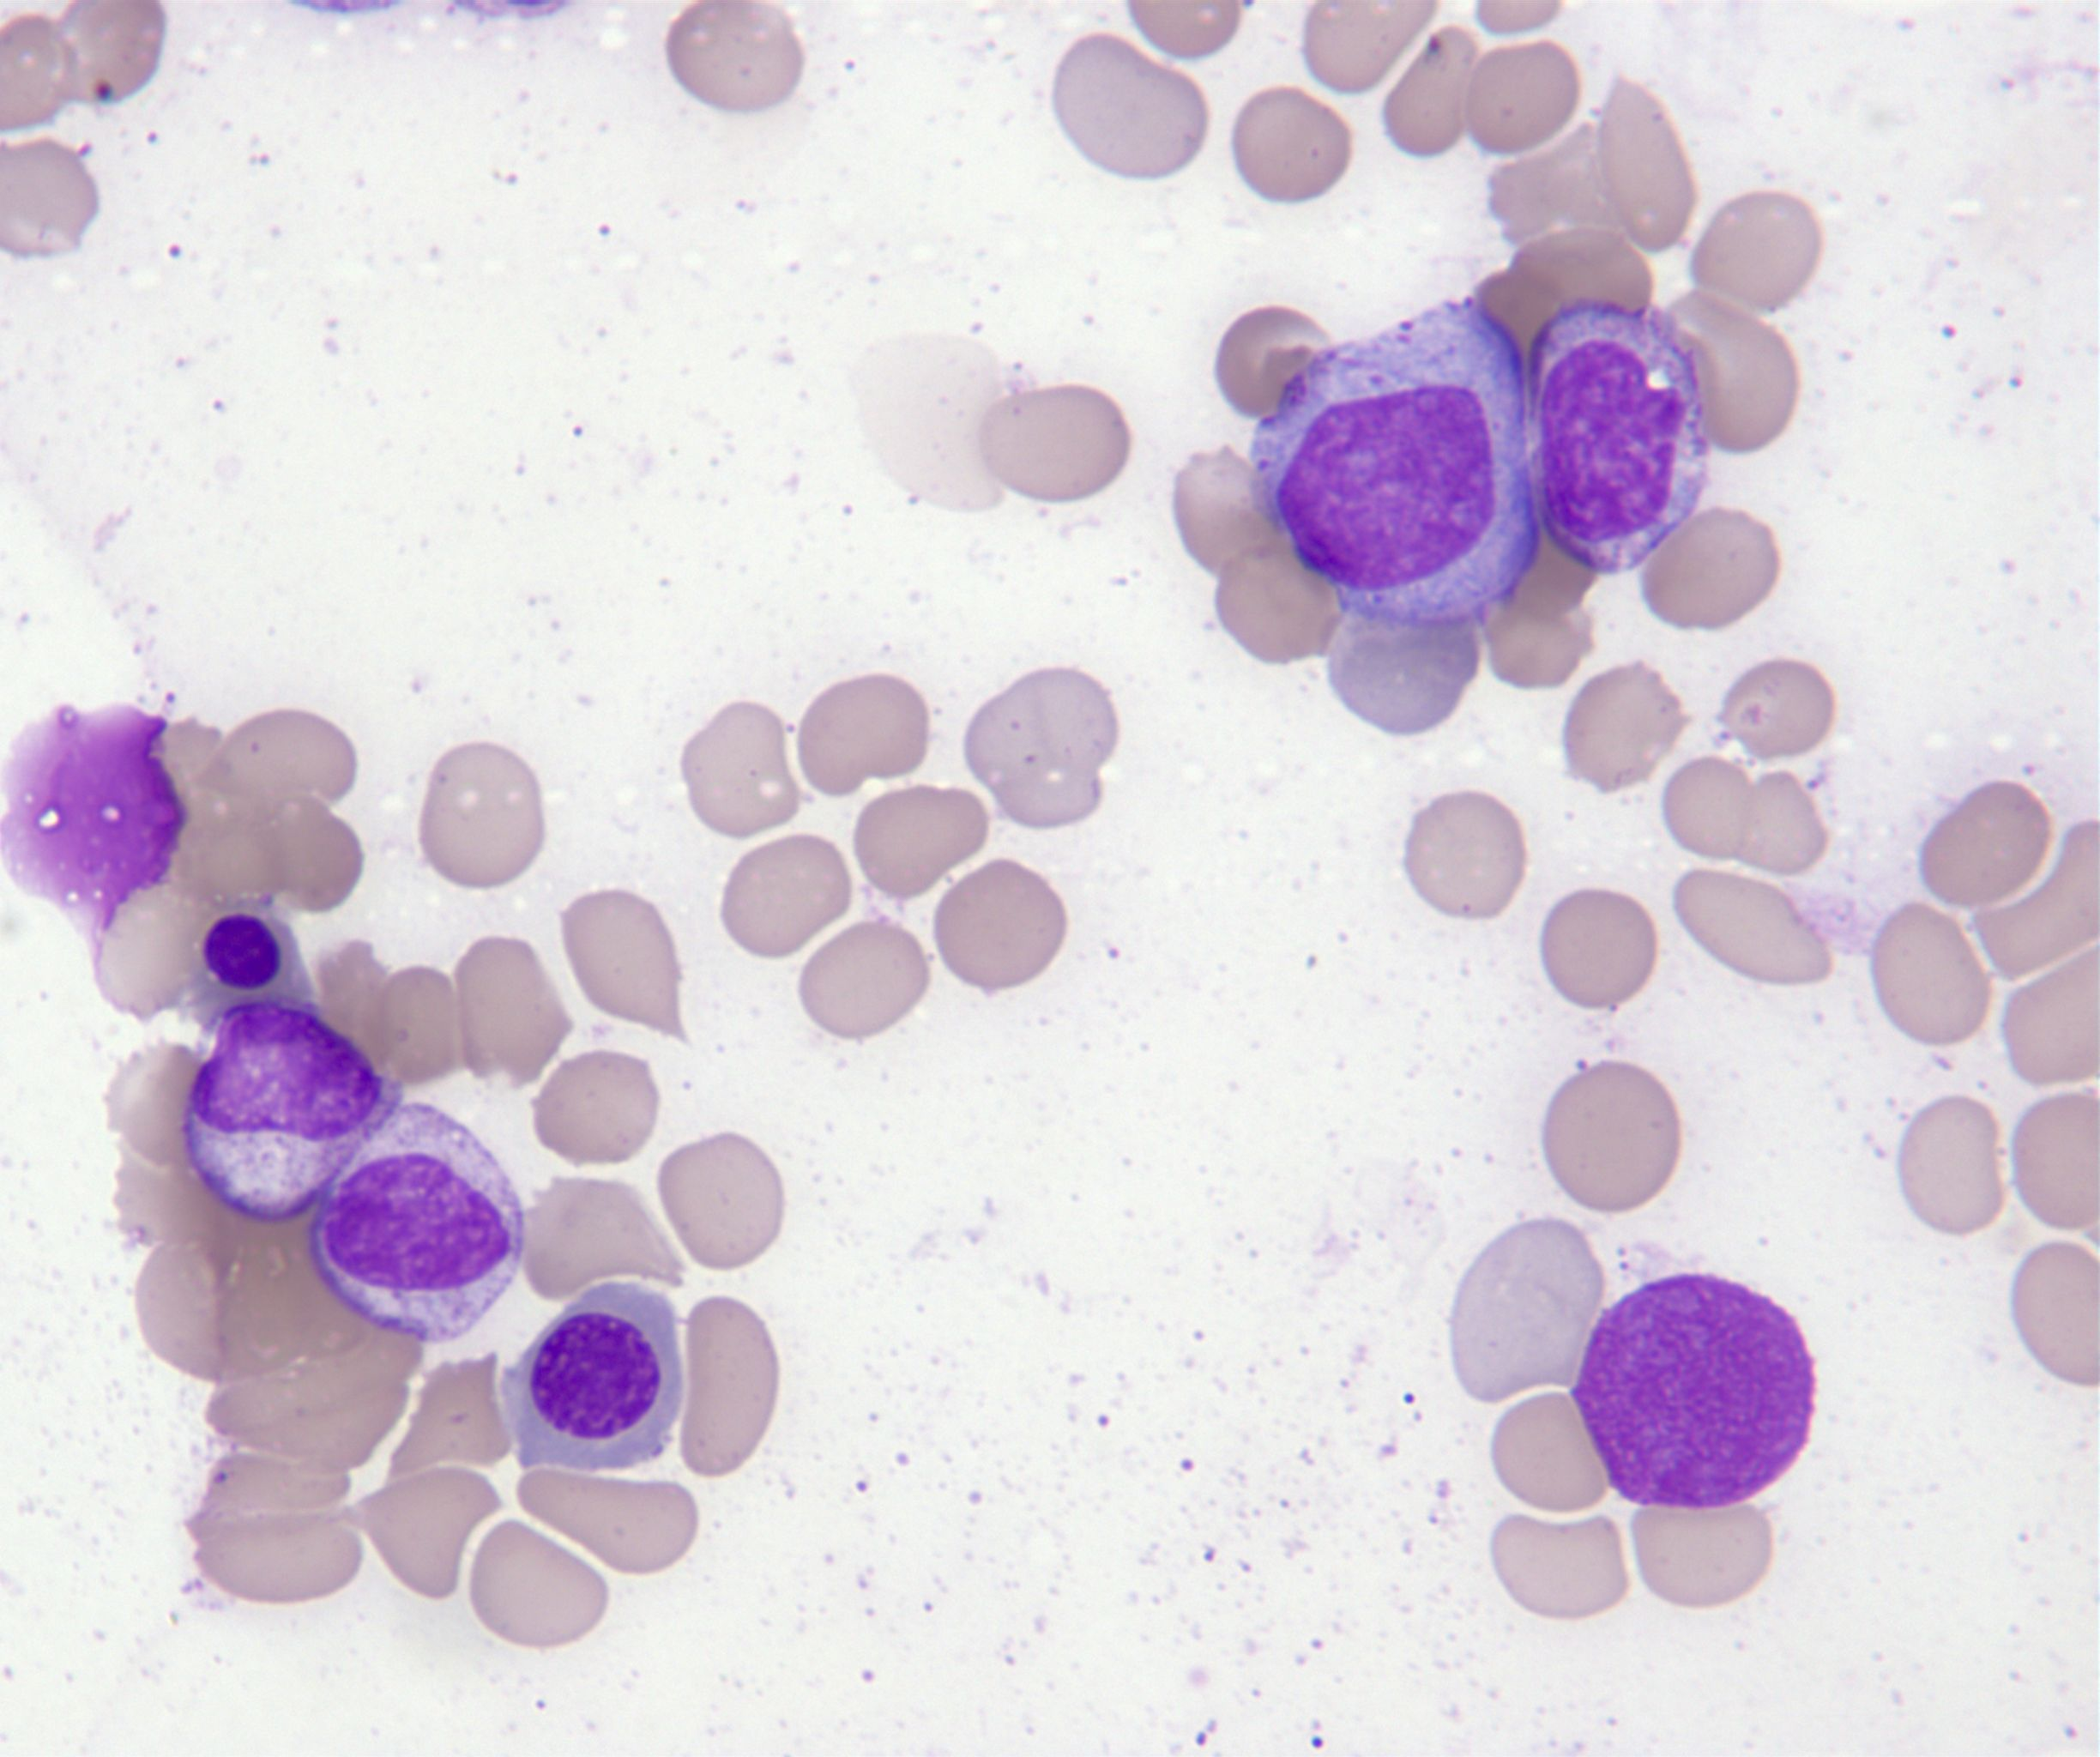2: (1251, 302, 1540, 625)
23: (502, 1282, 682, 1471)
24: (183, 899, 316, 1038)
3: (310, 1101, 522, 1345), (187, 998, 401, 1225), (1528, 305, 1704, 574)
x: (1572, 1277, 1814, 1507), (2, 705, 188, 967)
